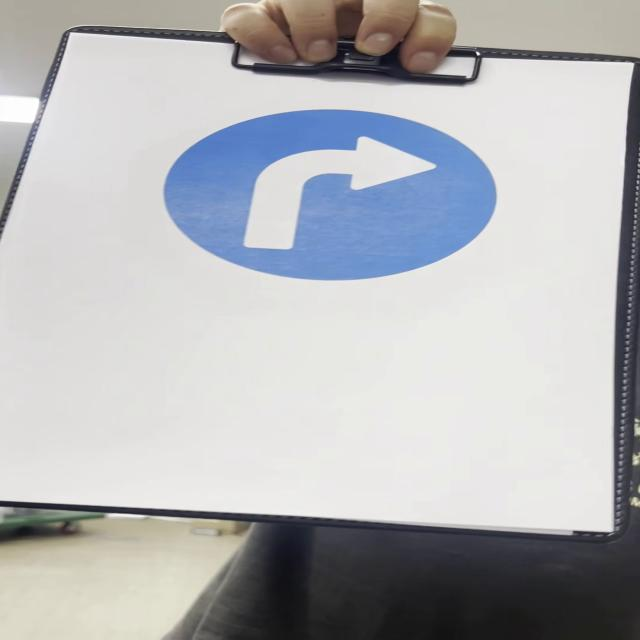right: (173, 111, 499, 282)
